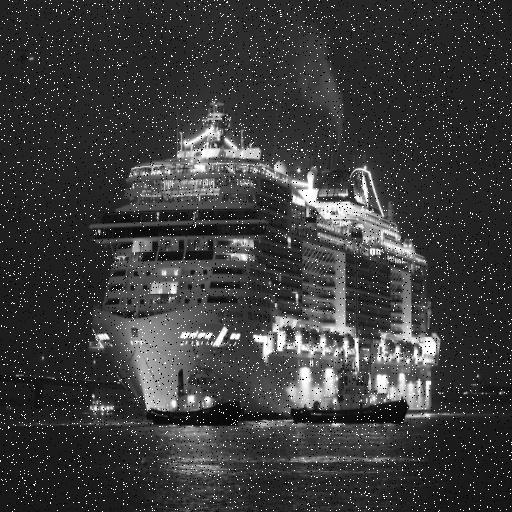cruises: (86, 98, 457, 433)
